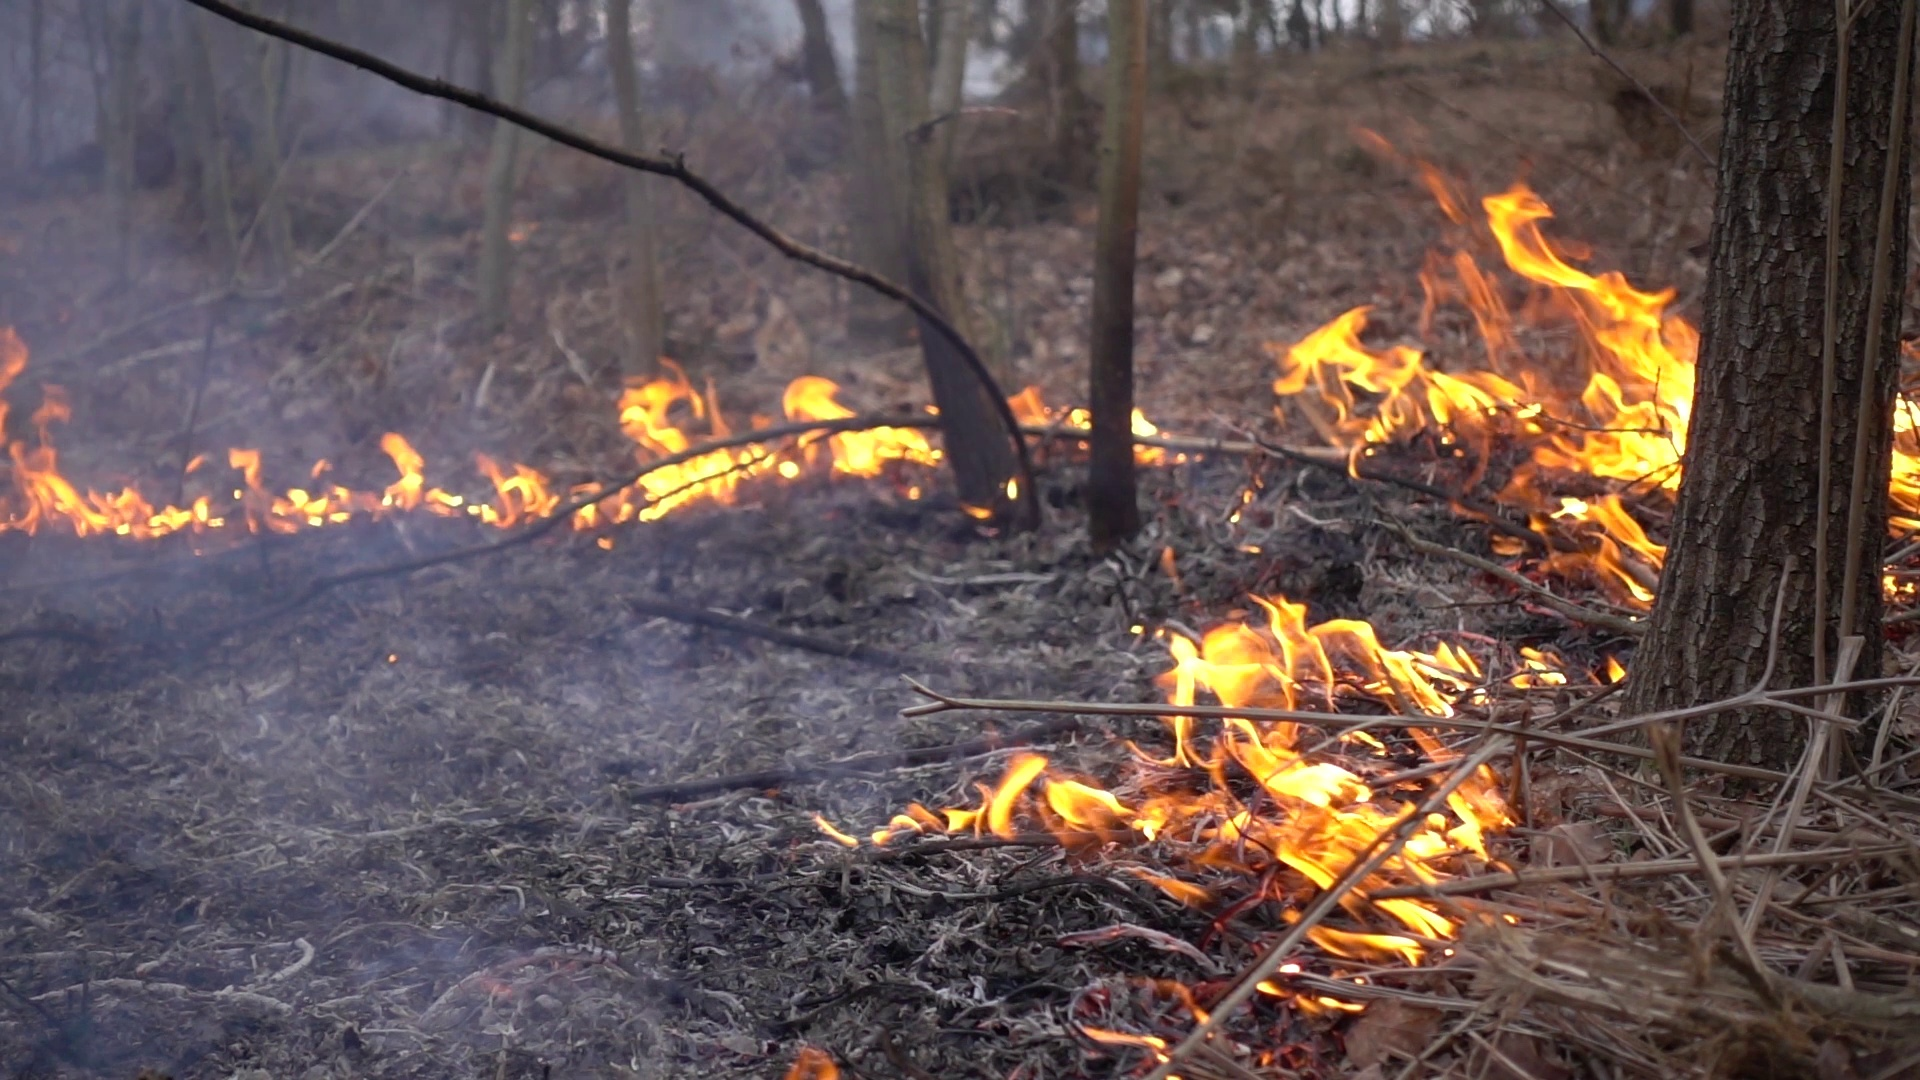fire: (930, 599, 1565, 969), (1273, 210, 1702, 592), (1, 446, 560, 533), (611, 363, 744, 516), (771, 372, 938, 483), (1888, 404, 1920, 533), (1006, 386, 1083, 429)
